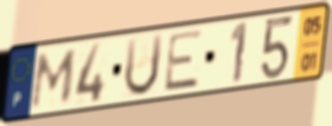1: (228, 19, 250, 87)
4: (72, 41, 109, 107)
5: (259, 14, 296, 81)
E: (162, 27, 206, 95)
M: (28, 47, 80, 112)
U: (121, 31, 165, 100)
